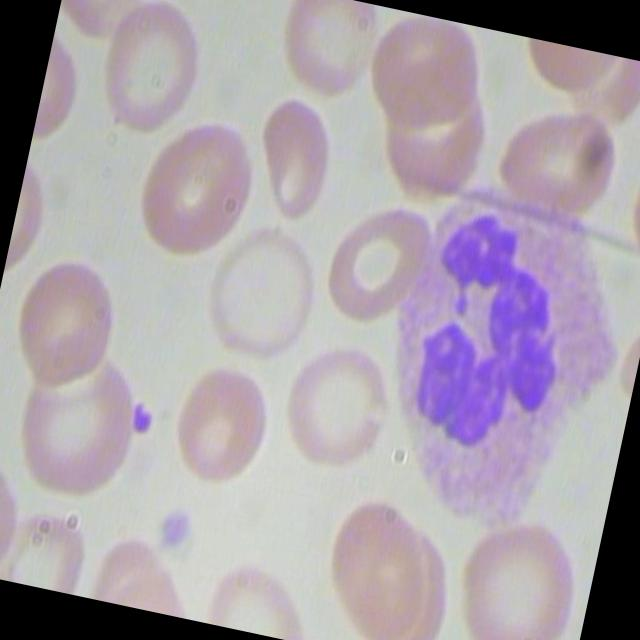Platelets: (147, 498, 200, 560), (119, 395, 158, 439)
RBC: (0, 329, 154, 517), (124, 104, 267, 275), (193, 212, 333, 379), (302, 485, 451, 640), (268, 324, 406, 484), (435, 504, 594, 640), (482, 92, 636, 231), (313, 186, 445, 340), (2, 244, 130, 400), (81, 0, 210, 148), (155, 346, 278, 496), (352, 5, 486, 138), (246, 80, 341, 226), (268, 0, 382, 110)
WBC: (340, 162, 640, 550)
